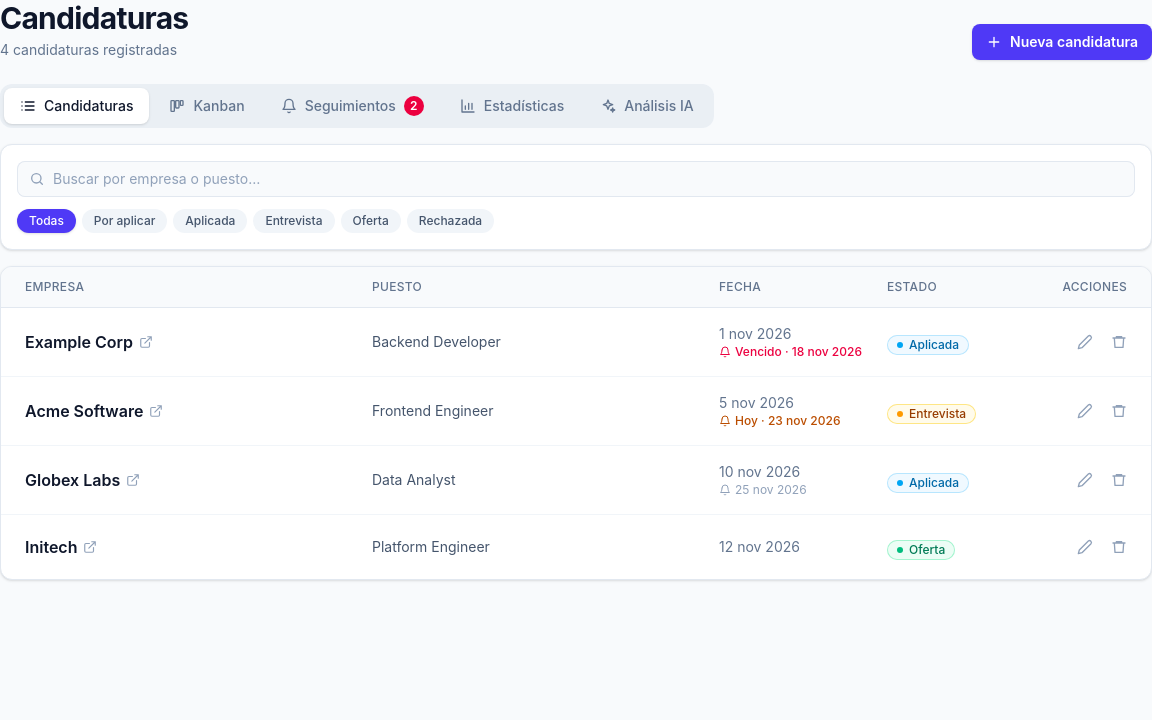
Test: ApplicationsPage follow-ups › marks a follow-up as done so it is no longer pending
The image size is (1152, 720).
Check: the text "2" is shown, box 404,96 -> 424,116
Click the tab "Seguimientos 2": (352, 106) 265,88 -> 440,124
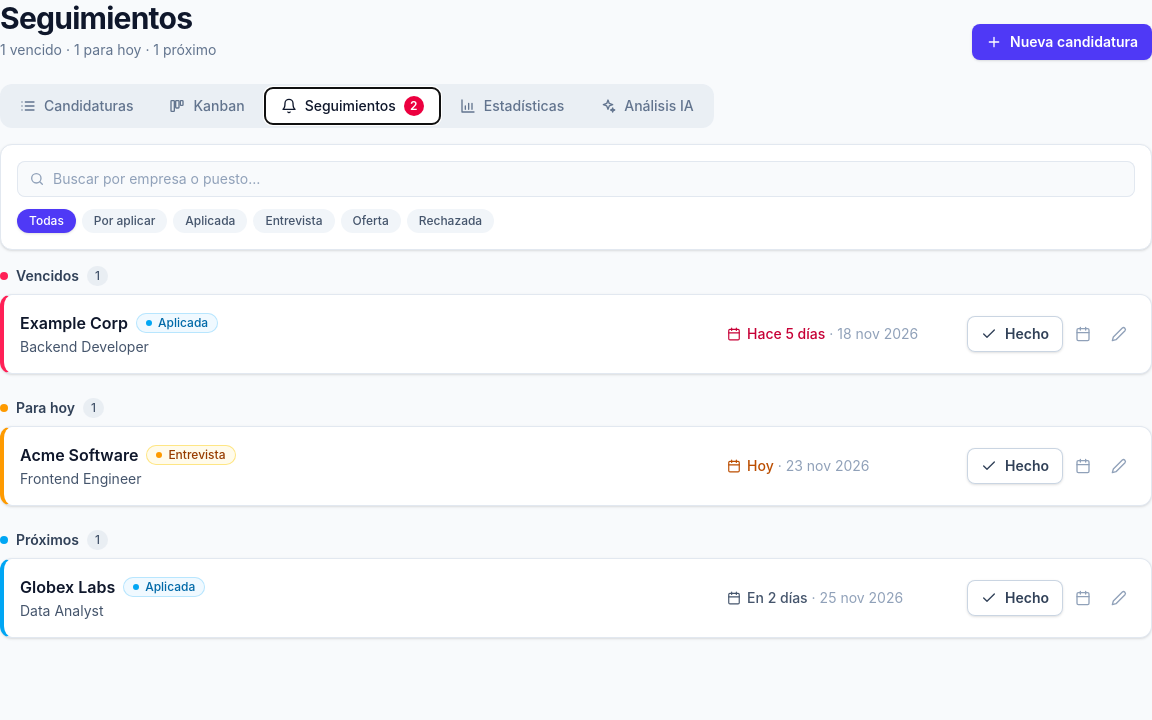
Check: the element "Vencidos" is shown, box 0,266 -> 1151,374
Click the button named "Marcar como hecho el seguimiento de Backend Developer en Example Corp": (1015, 334) 967,316 -> 1063,352
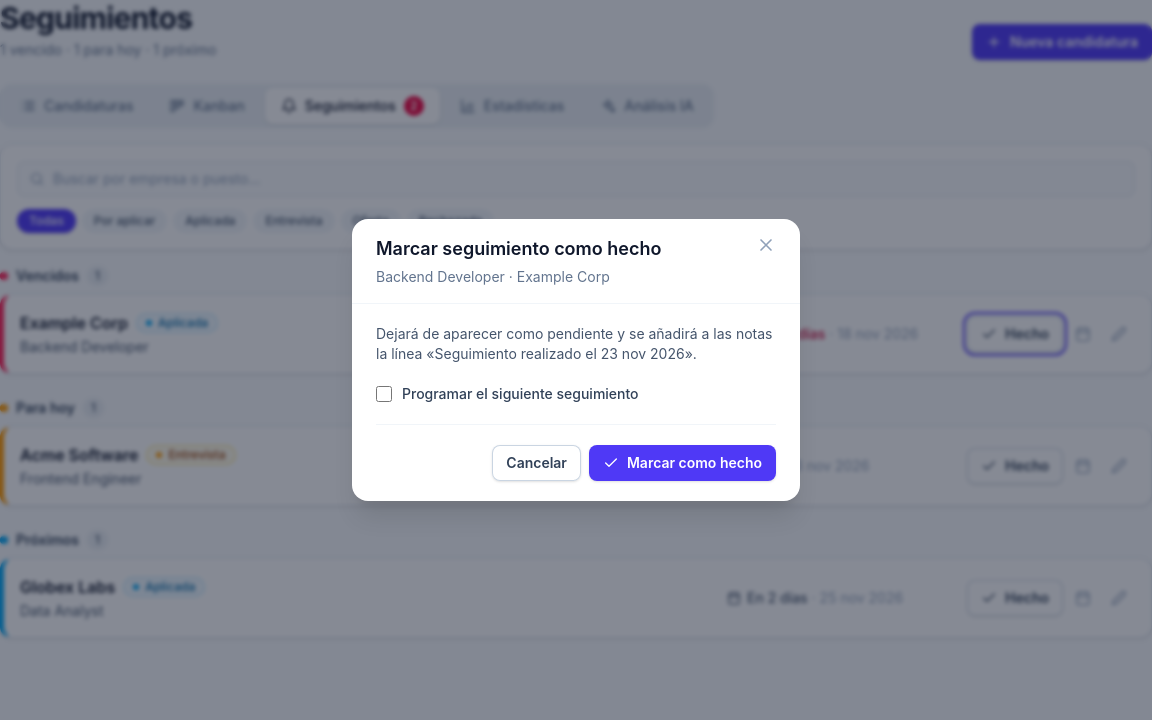
Click the button "Marcar como hecho": (682, 463) 589,445 -> 776,481
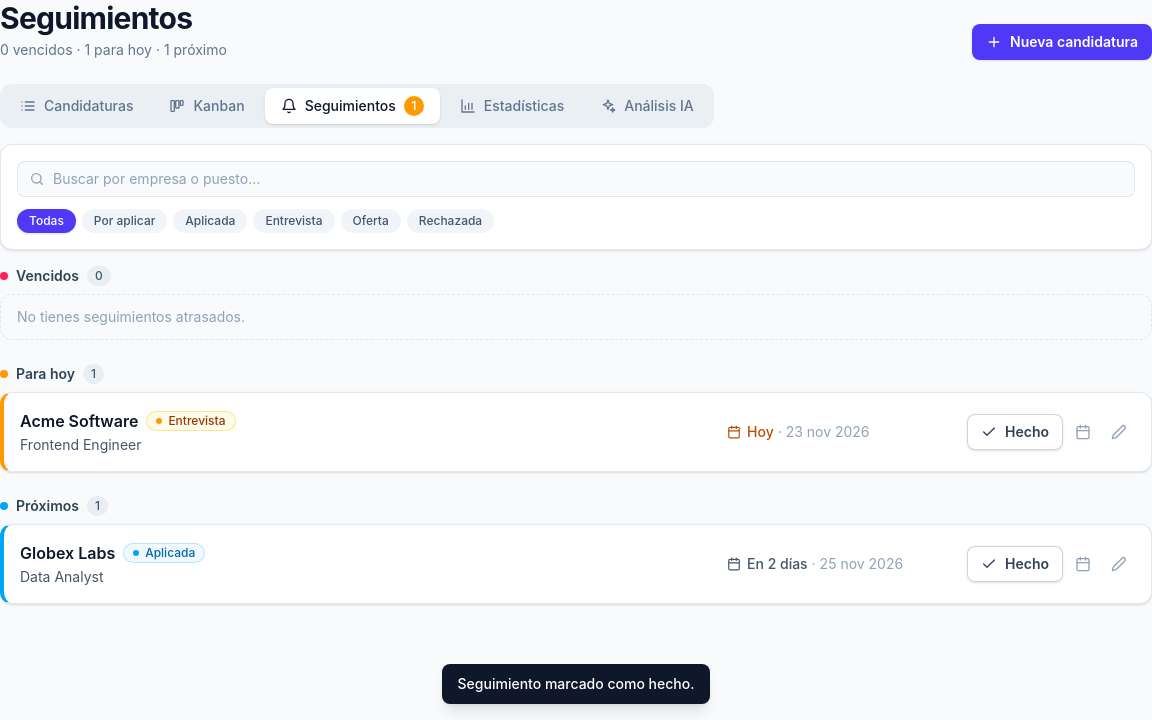
Check: the 1st text "1" is shown, box 404,96 -> 424,116
Check: the message reads "Seguimiento marcado como hecho.", box 458,675 -> 694,692
